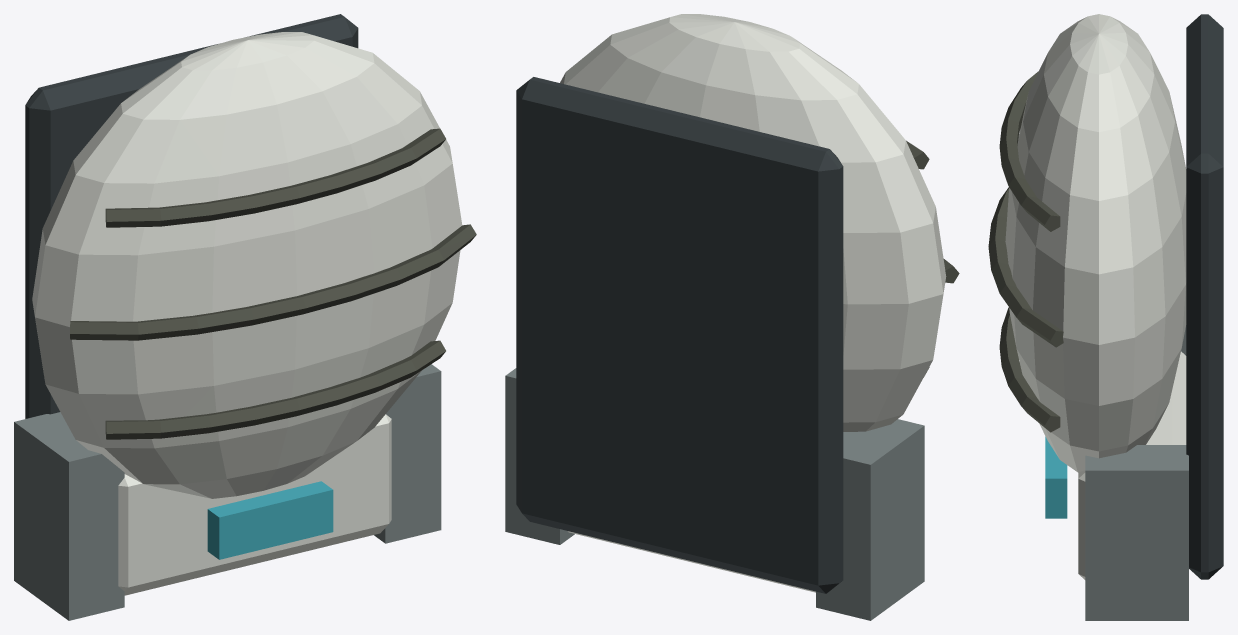
File: person_pack_broadshield.obj
3 renders of one model, left to right at view 1: azimuth 30°, elevation 25°; view 2: azimuth 150°, elevation 25°; view 3: azimuth 270°, elevation 25°, orthographic. The views are drawn at different scales.
Parts seen in each view (by area): view 1: person_pack_broadshield; view 2: person_pack_broadshield; view 3: person_pack_broadshield.
Boxes of the visible parts, left/top/right/bottom form: person_pack_broadshield: left=14, top=14, right=476, bottom=620; person_pack_broadshield: left=505, top=14, right=959, bottom=620; person_pack_broadshield: left=988, top=14, right=1223, bottom=620.
Bounding box in the file's own units: 0.336 × 0.4 × 0.17.
